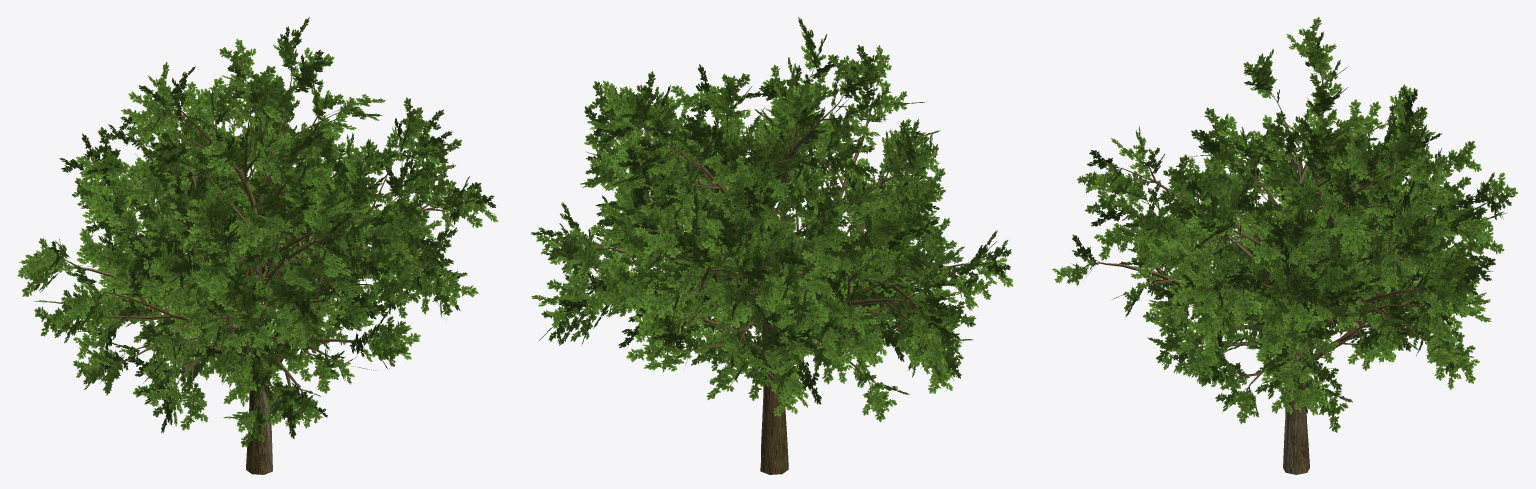
File: chinor.glb
3 renders of one model, left to right at view 1: azimuth 30°, elevation 25°; view 2: azimuth 150°, elevation 25°; view 3: azimuth 270°, elevation 25°, orthographic. The views are drawn at different scales.
Visible parts, largest first — view 1: v0_leaf, v1_leaf, v0_bark, v1_bark; view 2: v0_leaf, v1_leaf, v0_bark, v1_bark; view 3: v0_leaf, v1_leaf, v0_bark, v1_bark.
Boxes of the visible parts, box(x1,y1,x2,y2) form: v0_leaf: box(17, 61, 498, 447); v1_leaf: box(76, 17, 442, 406); v0_bark: box(49, 93, 467, 468); v1_bark: box(117, 75, 381, 474); v0_leaf: box(530, 17, 1013, 422); v1_leaf: box(531, 64, 957, 416); v0_bark: box(568, 67, 984, 467); v1_bark: box(591, 107, 918, 474); v0_leaf: box(1052, 17, 1517, 423); v1_leaf: box(1123, 109, 1504, 432); v0_bark: box(1078, 64, 1492, 468); v1_bark: box(1168, 157, 1461, 474).
Size of the model in its own units: 15.33 by 15 by 15.52.
Materials: 2 (2 with a texture image).
